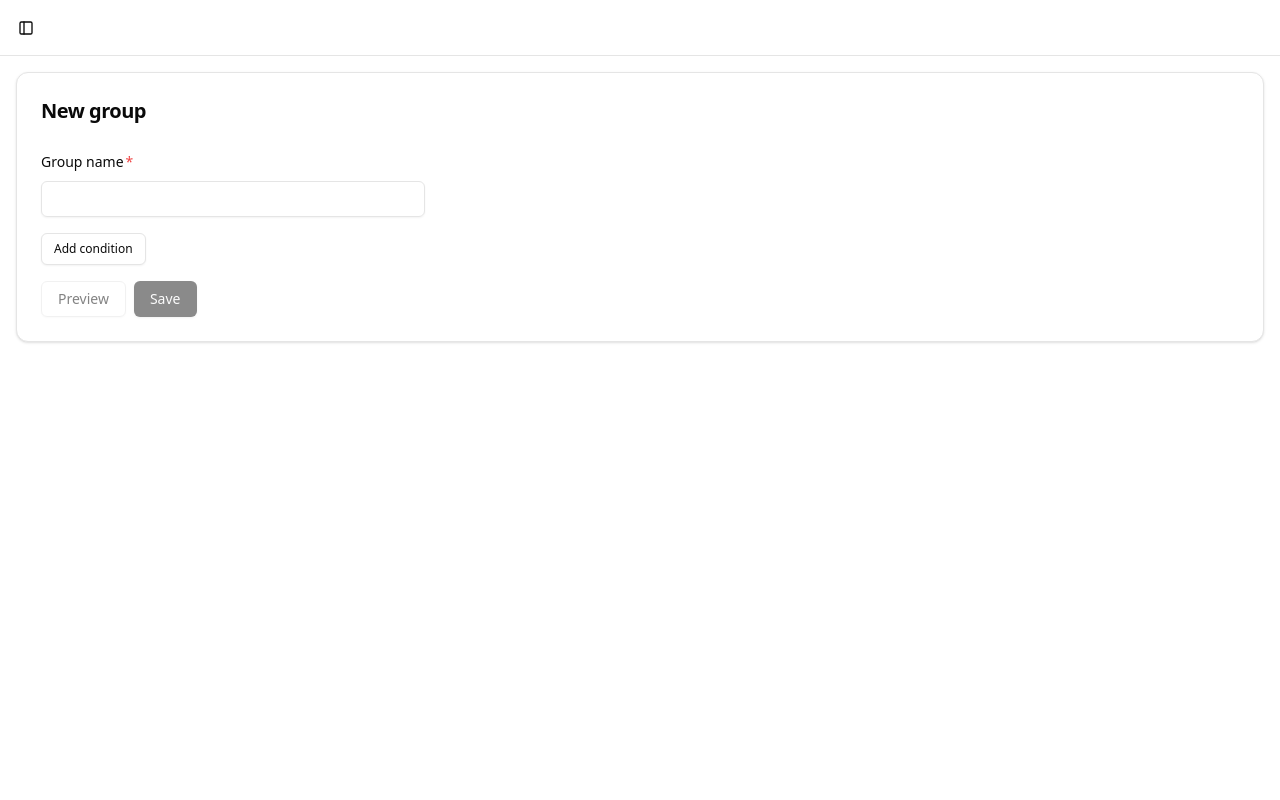
it: GroupEditorPage › builds a condition, previews it, and shows results
The image size is (1280, 800).
Click the button "Add condition".
click(93, 249)  # box top-left (41, 233), bottom-right (146, 265)
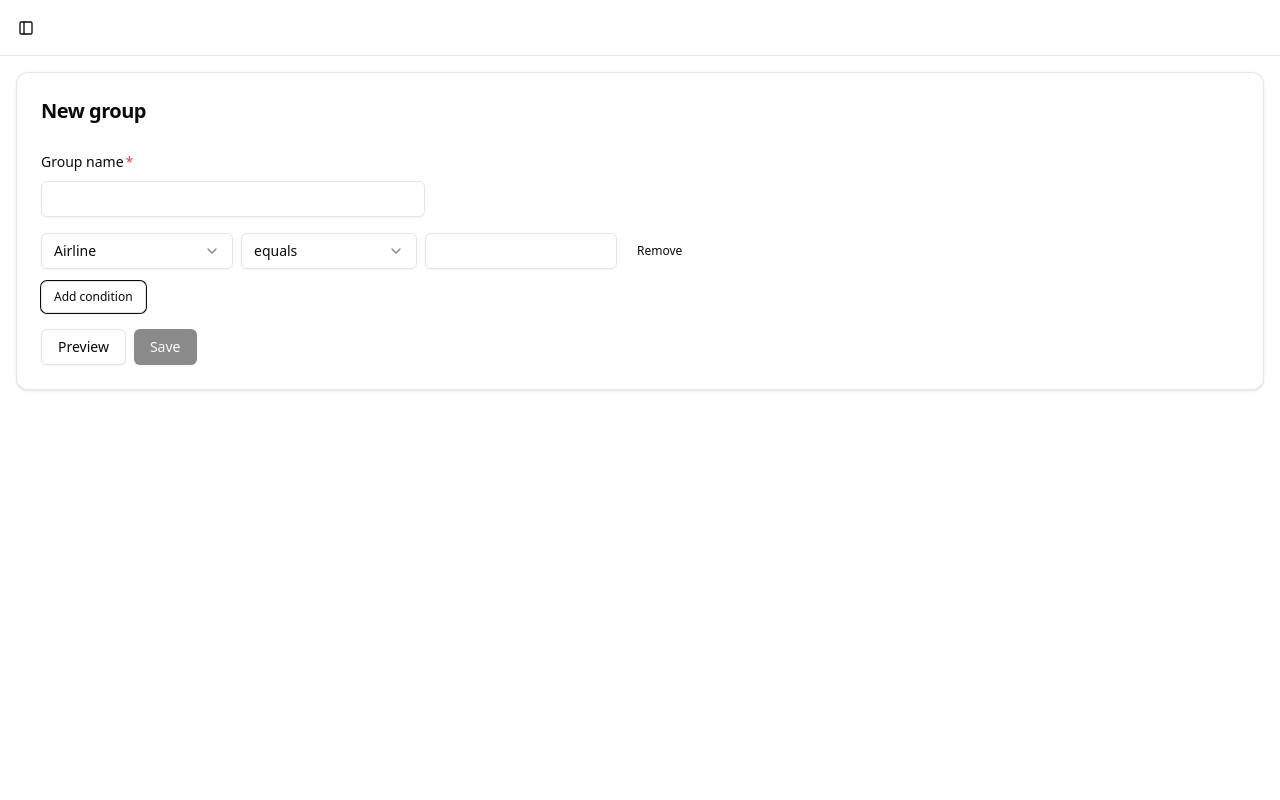
Type "QR" into the field named "Condition 1 value".
click(521, 251); type("QR")  # box top-left (425, 233), bottom-right (617, 269)
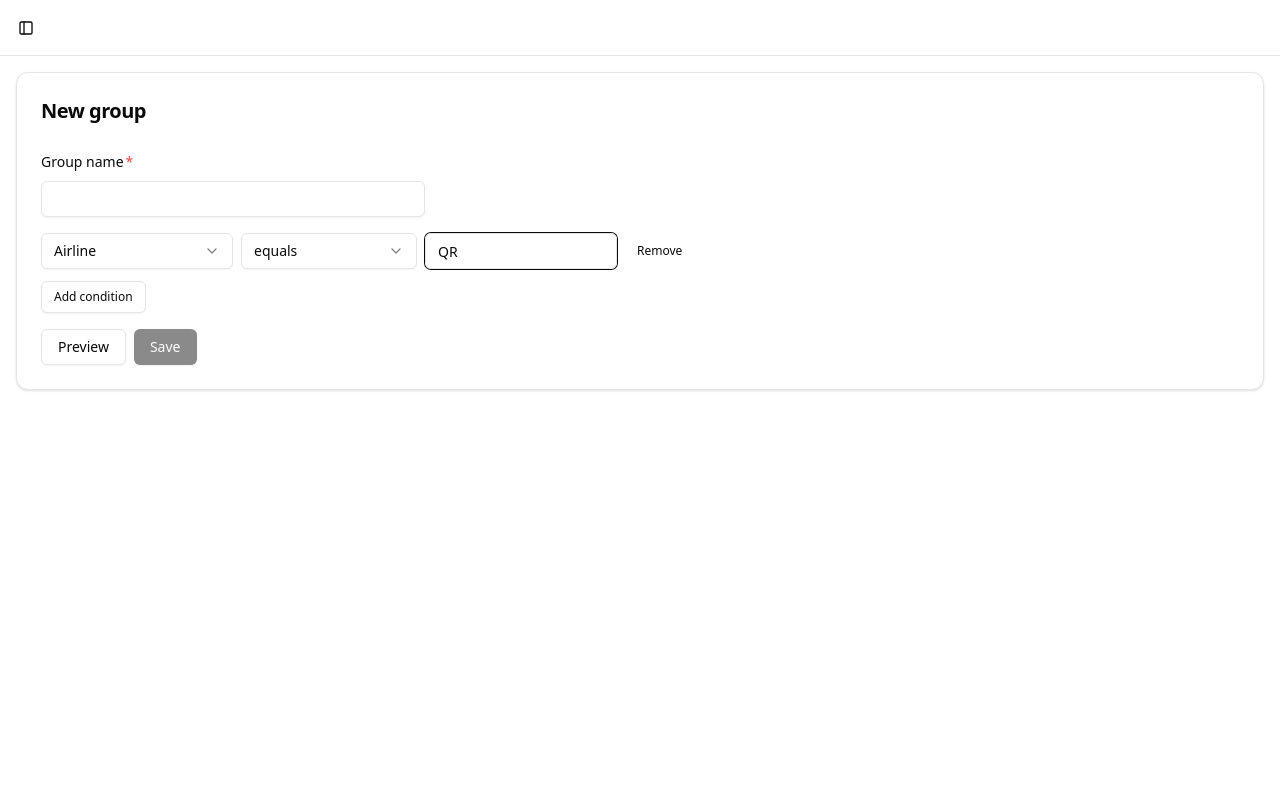
Click the button "Preview".
click(83, 347)  # box top-left (41, 329), bottom-right (126, 365)
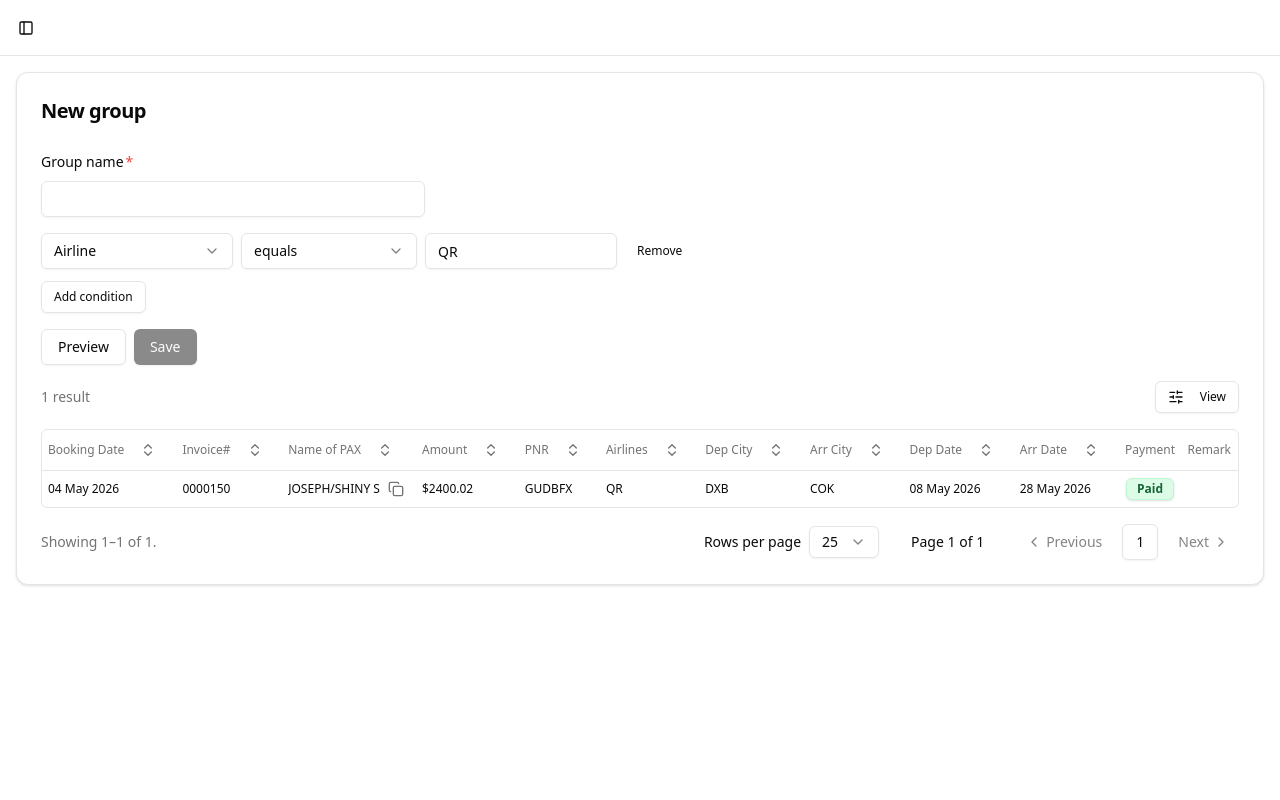
Expected: the text "JOSEPH/SHINY S" is shown, top-left (288, 480), bottom-right (380, 496)
Expected: the text "1 result" is shown, top-left (41, 387), bottom-right (90, 407)
